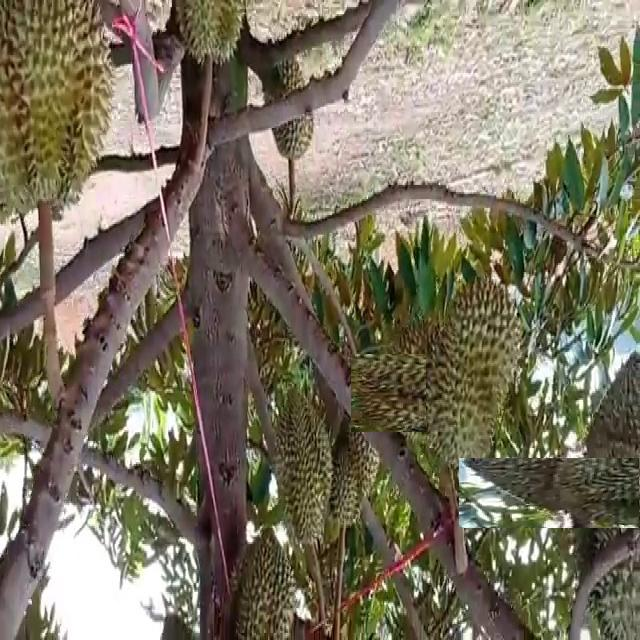durian: (1, 2, 121, 236), (513, 403, 640, 583), (426, 272, 526, 483), (369, 334, 485, 450), (270, 385, 334, 557), (323, 396, 388, 532), (225, 524, 299, 640), (258, 30, 316, 167), (173, 2, 244, 71)
